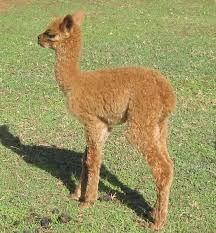alpaca: (37, 12, 176, 223)
